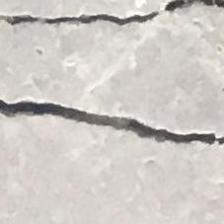Crack: (2, 0, 224, 167)
